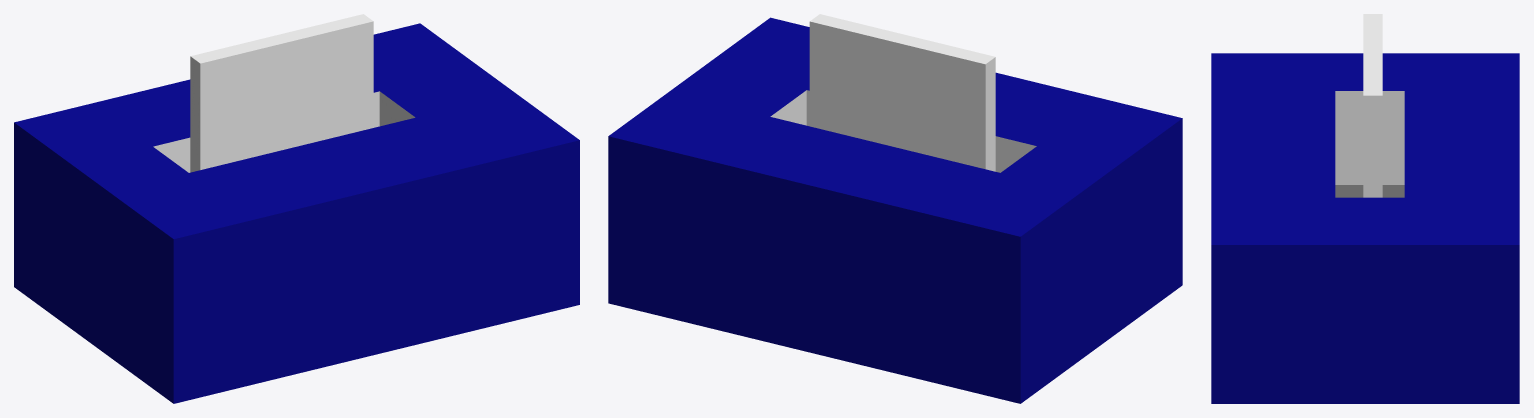
The model's file is Klenex.fbx.
3 renders of one model, left to right at view 1: azimuth 30°, elevation 25°; view 2: azimuth 150°, elevation 25°; view 3: azimuth 270°, elevation 25°, orthographic. The views are drawn at different scales.
Visible parts, largest first — view 1: Model; view 2: Model; view 3: Model.
Part boxes in pixels (left/top/right/bottom): Model: left=14, top=14, right=579, bottom=403; Model: left=608, top=14, right=1182, bottom=403; Model: left=1211, top=14, right=1519, bottom=403.
Size of the model in its own units: 78.56 by 47.5 by 53.5.
